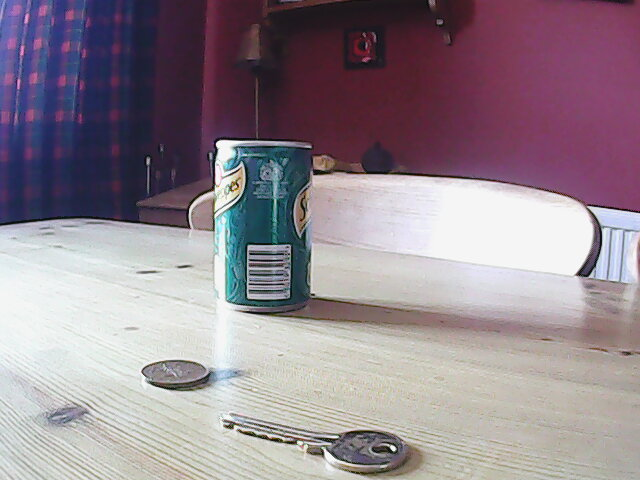Can: (209, 134, 317, 315)
Coin: (137, 357, 211, 391)
Key: (215, 406, 412, 478)
